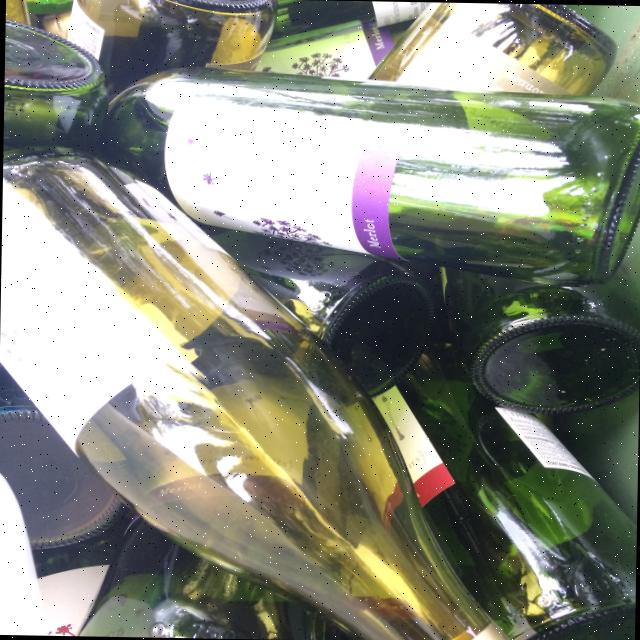glass: (0, 145, 504, 640), (96, 63, 640, 287)
